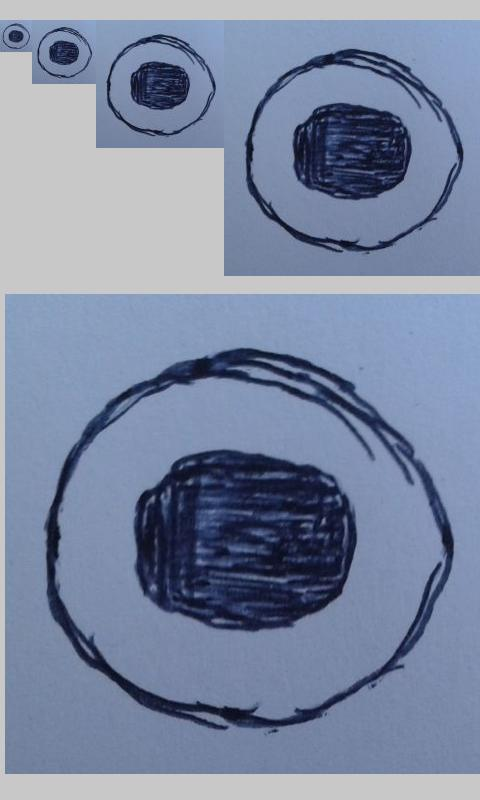radio_button: (42, 346, 455, 735), (244, 46, 465, 255), (105, 33, 218, 138), (36, 26, 93, 79), (1, 22, 31, 49)
